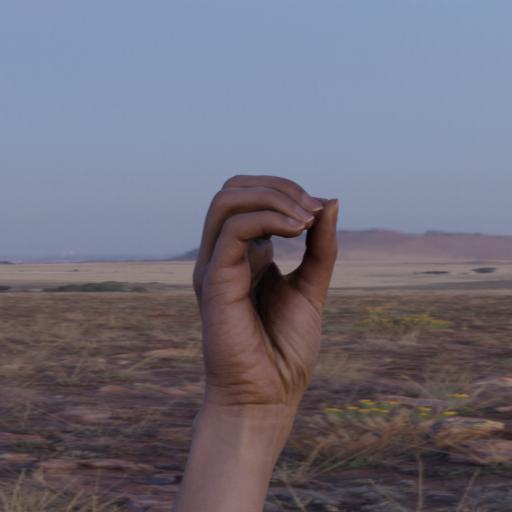O: (189, 167, 346, 405)
